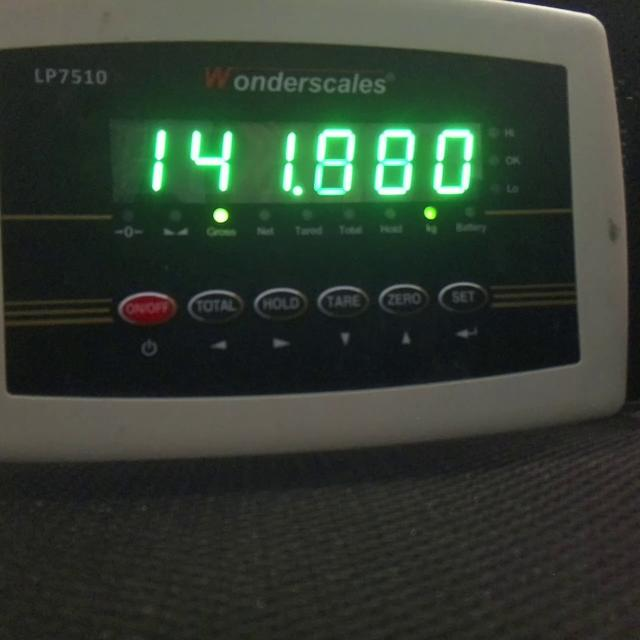.: (292, 185, 304, 197)
0: (433, 128, 474, 194)
1: (150, 128, 167, 192), (282, 132, 298, 194)
4: (190, 128, 232, 192)
8: (313, 127, 356, 195), (373, 128, 416, 195)
